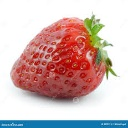strawberry: (8, 12, 119, 101)
